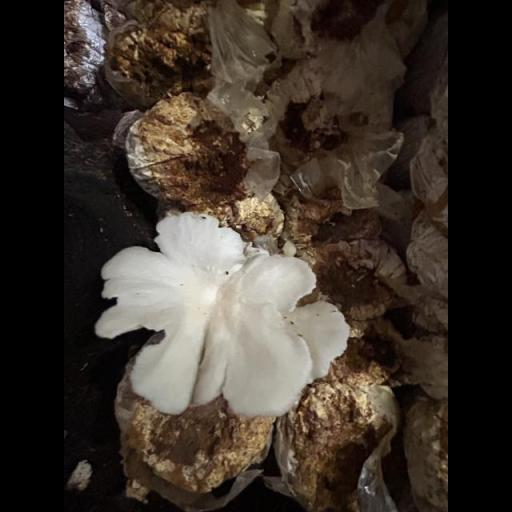White Oyster Mushroom: (90, 200, 371, 431)
